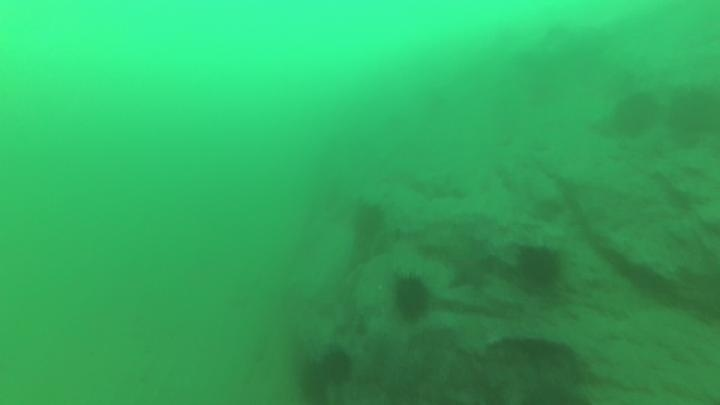echinus: (665, 83, 720, 141), (514, 242, 565, 292), (609, 90, 661, 139), (389, 272, 434, 325), (293, 355, 335, 404), (316, 345, 356, 388), (529, 194, 566, 225)
starfish: (442, 239, 497, 293)
